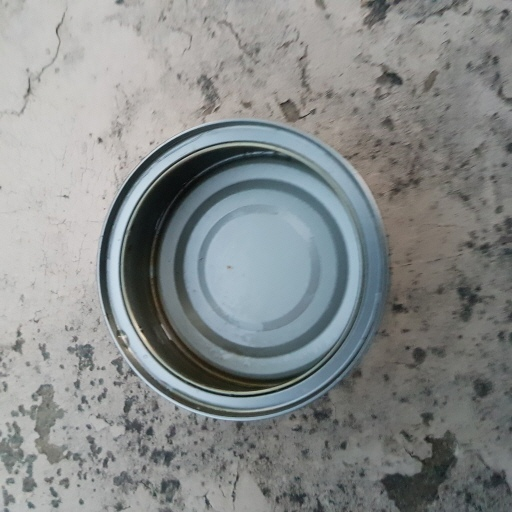Metal_1: (95, 117, 390, 422)
